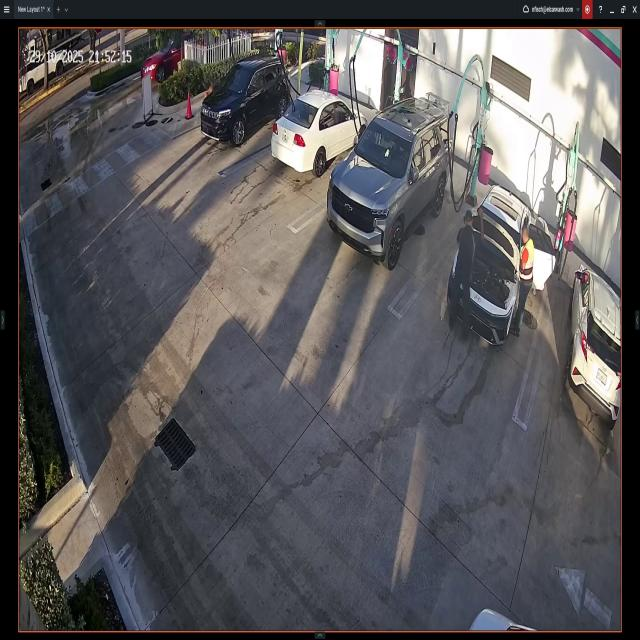Car: (329, 98, 453, 264), (448, 184, 555, 340), (572, 260, 621, 419), (200, 58, 287, 144), (274, 90, 367, 162), (142, 36, 182, 81)
